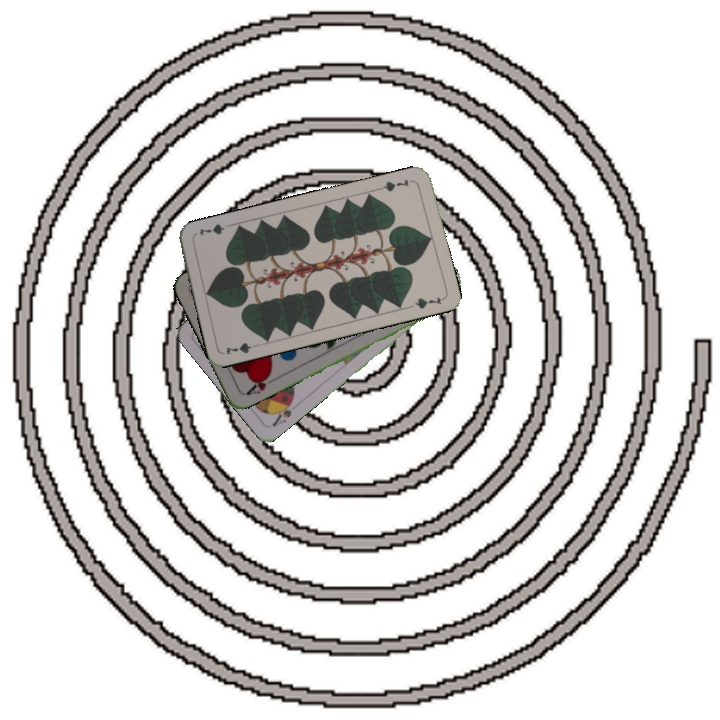G7: (221, 338, 262, 357), (375, 175, 416, 194)
HA: (242, 369, 279, 398)
SA: (268, 394, 296, 430)
